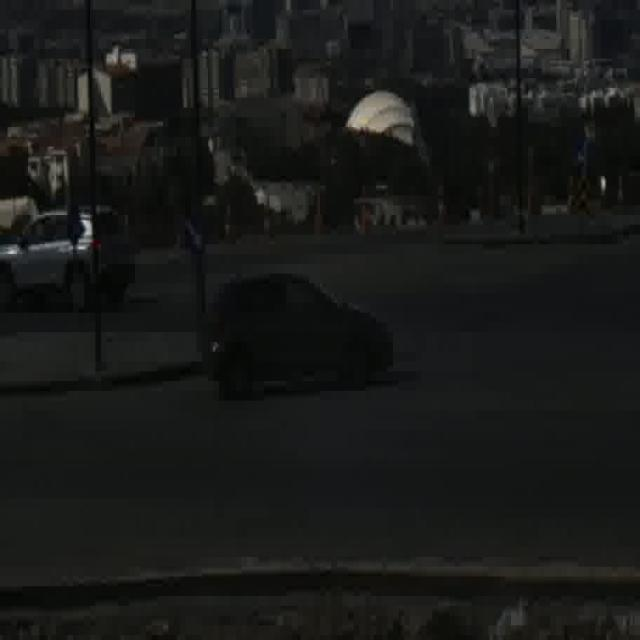Car: (201, 270, 395, 392), (0, 211, 127, 307)
